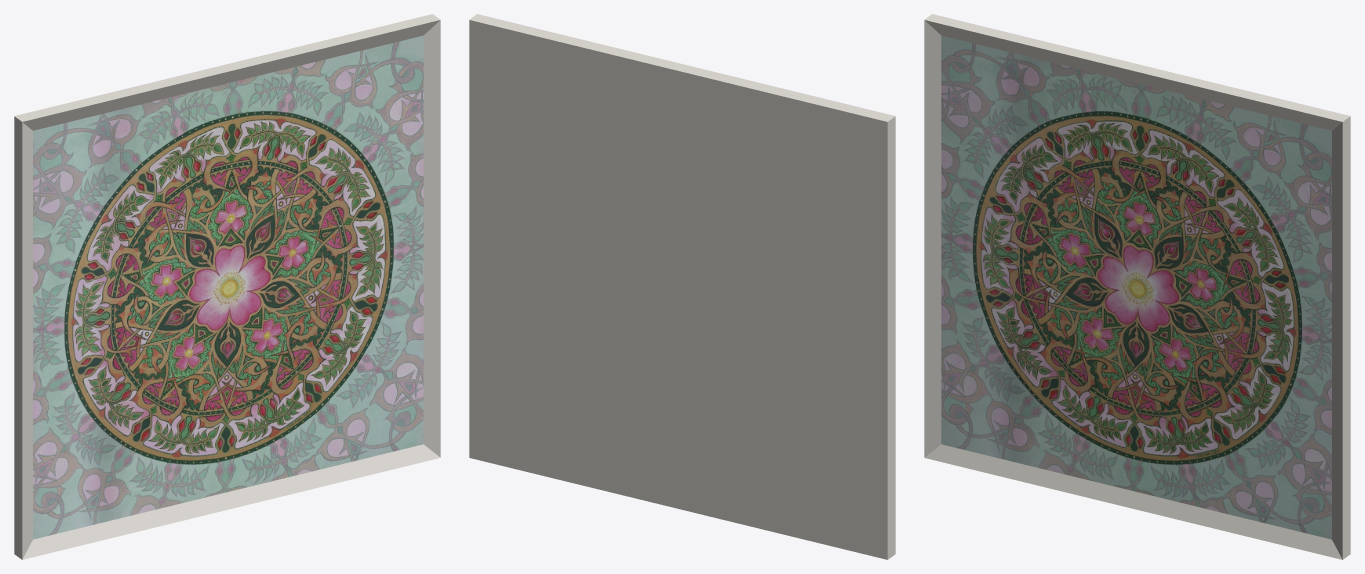
Rendered from wild-rose-wild-rose-sussex-pink-a0-white-v2.glb.
3 renders of one model, left to right at view 1: azimuth 30°, elevation 25°; view 2: azimuth 150°, elevation 25°; view 3: azimuth 330°, elevation 25°, orthographic.
Visible parts, largest first — view 1: FramedPrint; view 2: FramedPrint; view 3: FramedPrint.
Part boxes in pixels (bbox=[...]): FramedPrint: bbox=[14, 14, 440, 559]; FramedPrint: bbox=[469, 14, 895, 559]; FramedPrint: bbox=[924, 14, 1350, 559].
Bounding box in the file's own units: 0.9 × 0.9 × 0.03.
Materials: 2 (1 with a texture image).
